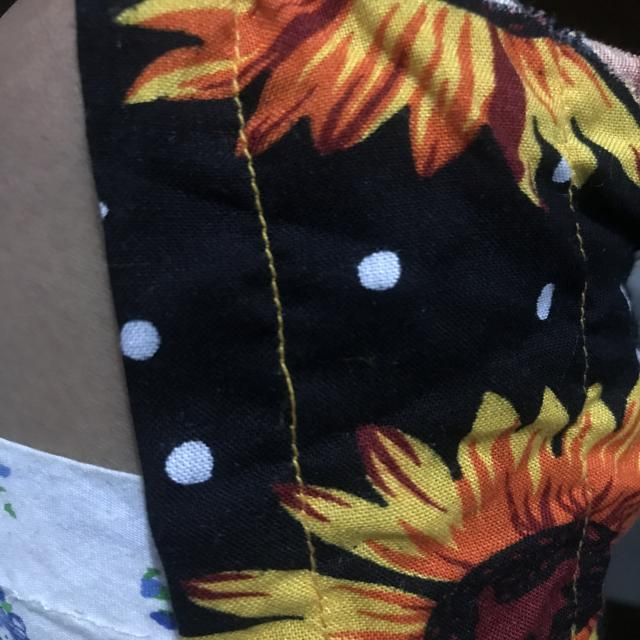good: (240, 194, 294, 308)
skip: (251, 338, 322, 438)
